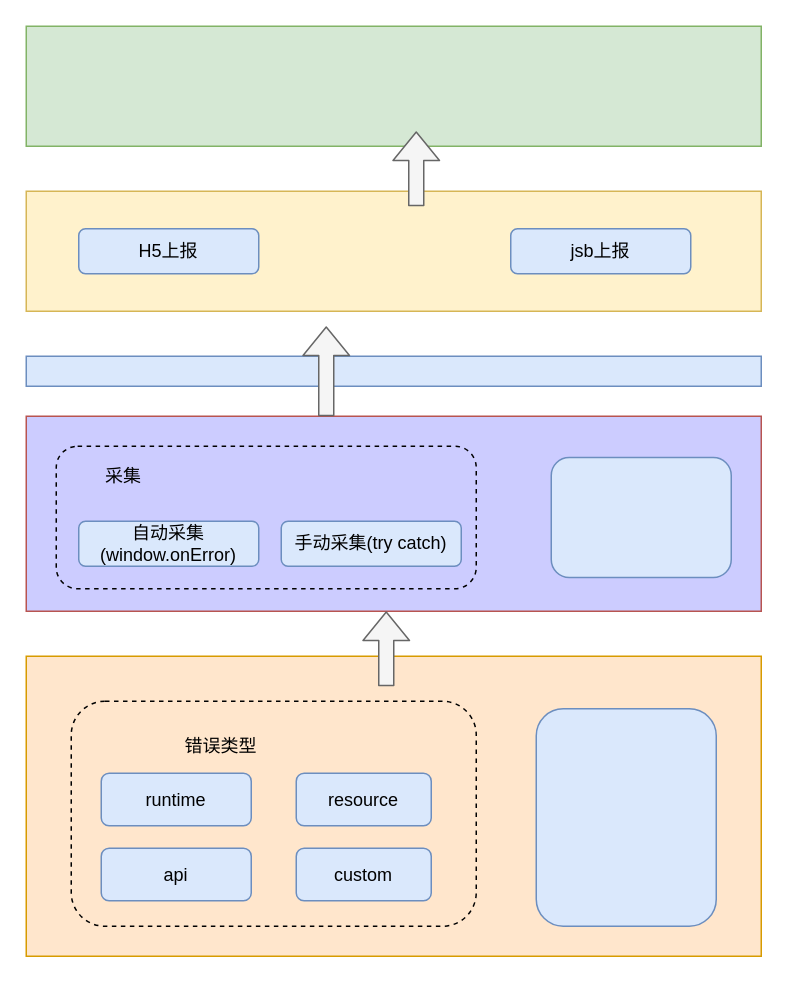
The diagram is 788 pixels wide and 983 high, and some of its shapes have lost their labels. Each missing label, with the centre of its shape:
"log服务(koa-logger)" goes at point 393,85.
"埋点信息" goes at point 625,816.
"埋点信息采集" goes at point 640,517.
"环境判断" goes at point 393,370.
